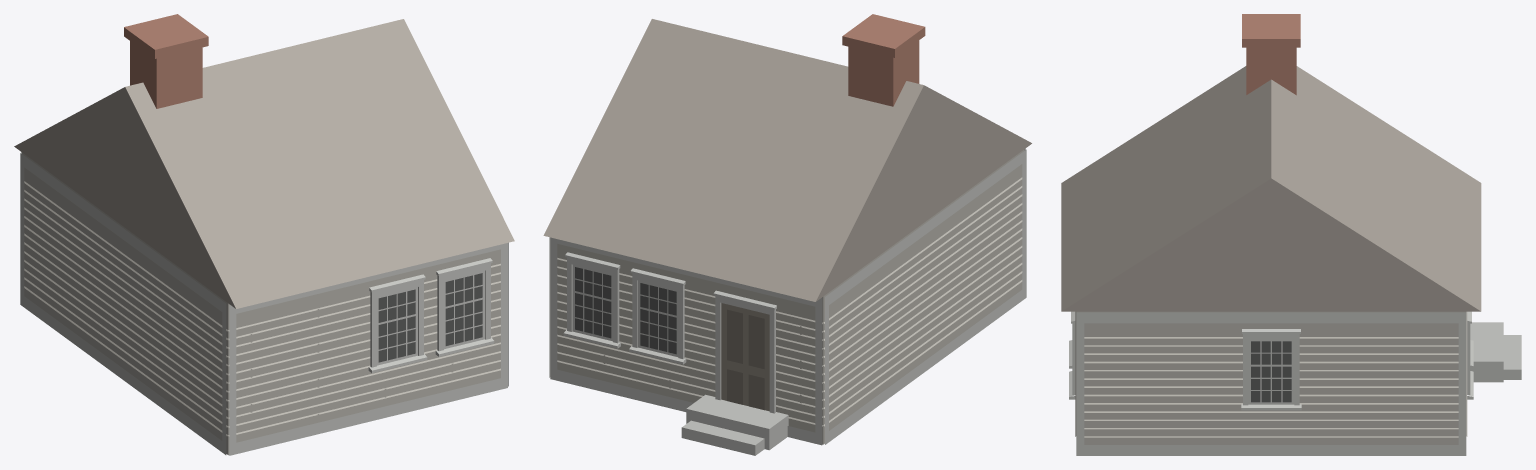
The model's file is recon_1835_north_d3_016__inferred_1835.glb.
3 views of the same model, side by side, from view 1: azimuth 30°, elevation 25°; view 2: azimuth 150°, elevation 25°; view 3: azimuth 270°, elevation 25° (orthographic). The views are drawn at different scales.
Parts seen in each view (by area): view 1: recon_1835_north_d3_016__inferred_1835; view 2: recon_1835_north_d3_016__inferred_1835; view 3: recon_1835_north_d3_016__inferred_1835.
Boxes of the visible parts, x1=… form: recon_1835_north_d3_016__inferred_1835: x1=14, y1=14, x2=514, y2=455; recon_1835_north_d3_016__inferred_1835: x1=543, y1=14, x2=1031, y2=455; recon_1835_north_d3_016__inferred_1835: x1=1061, y1=14, x2=1521, y2=455.
Bounding box in the file's own units: 5.23 × 5.87 × 7.67.
